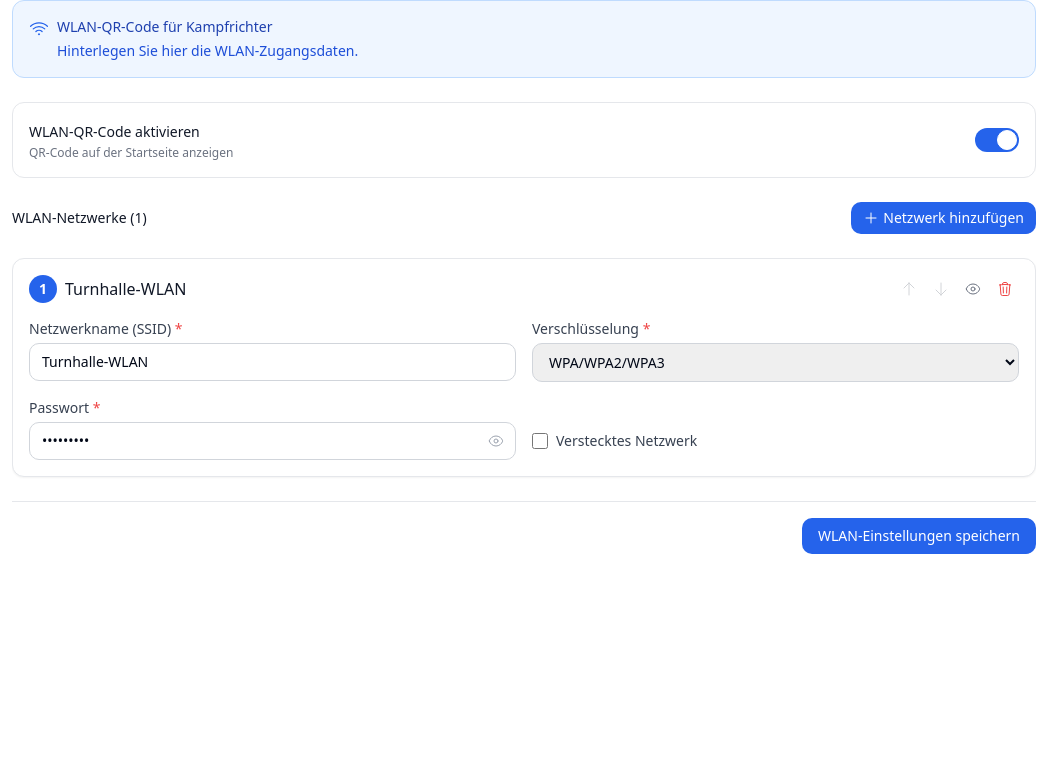
it: WifiSettings Component › can save settings
Expected: the field showing "Turnhalle-WLAN" is shown, [29,343,516,381]
# Click save
Click the button "WLAN-Einstellungen speichern" at (919, 536), box [802,518,1036,554]
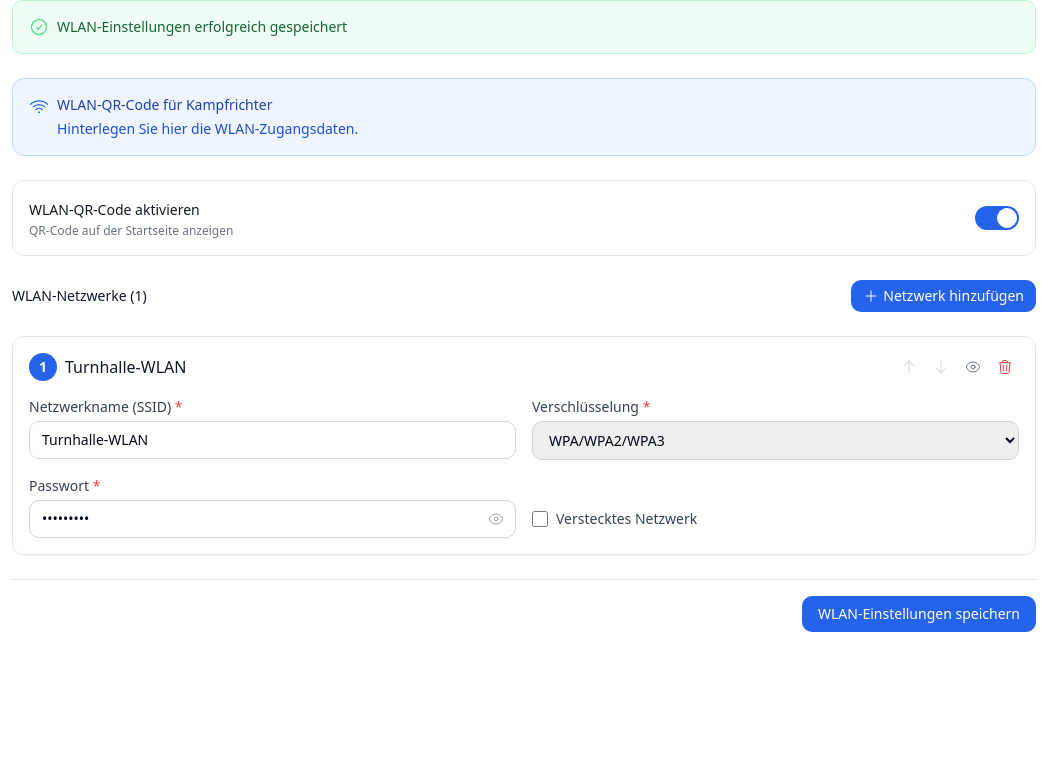
Expected: the text "Turnhalle-WLAN" is shown, [65,355,186,379]
Expected: the text "WLAN-Einstellungen erfolgreich gespeichert" is shown, [57,17,347,37]
